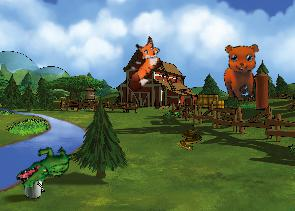bear: (217, 39, 269, 104)
crocodile: (13, 132, 79, 201)
fox: (111, 33, 172, 94)
